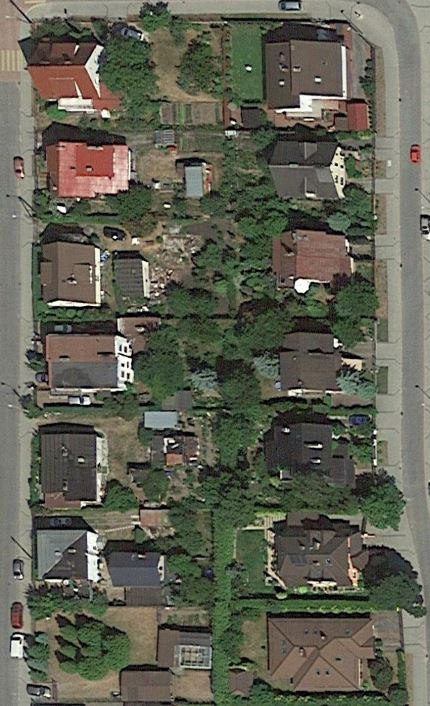family house: (257, 611, 380, 696), (267, 503, 372, 592), (25, 33, 126, 114), (263, 37, 355, 116), (40, 330, 137, 400), (35, 426, 109, 515), (41, 135, 137, 202), (269, 224, 355, 292), (267, 137, 348, 202), (36, 236, 106, 310), (259, 420, 337, 483), (277, 328, 345, 395), (33, 523, 101, 589), (106, 541, 177, 588)
garage: (145, 431, 202, 473), (117, 667, 178, 704), (113, 256, 154, 300), (182, 160, 209, 198)
